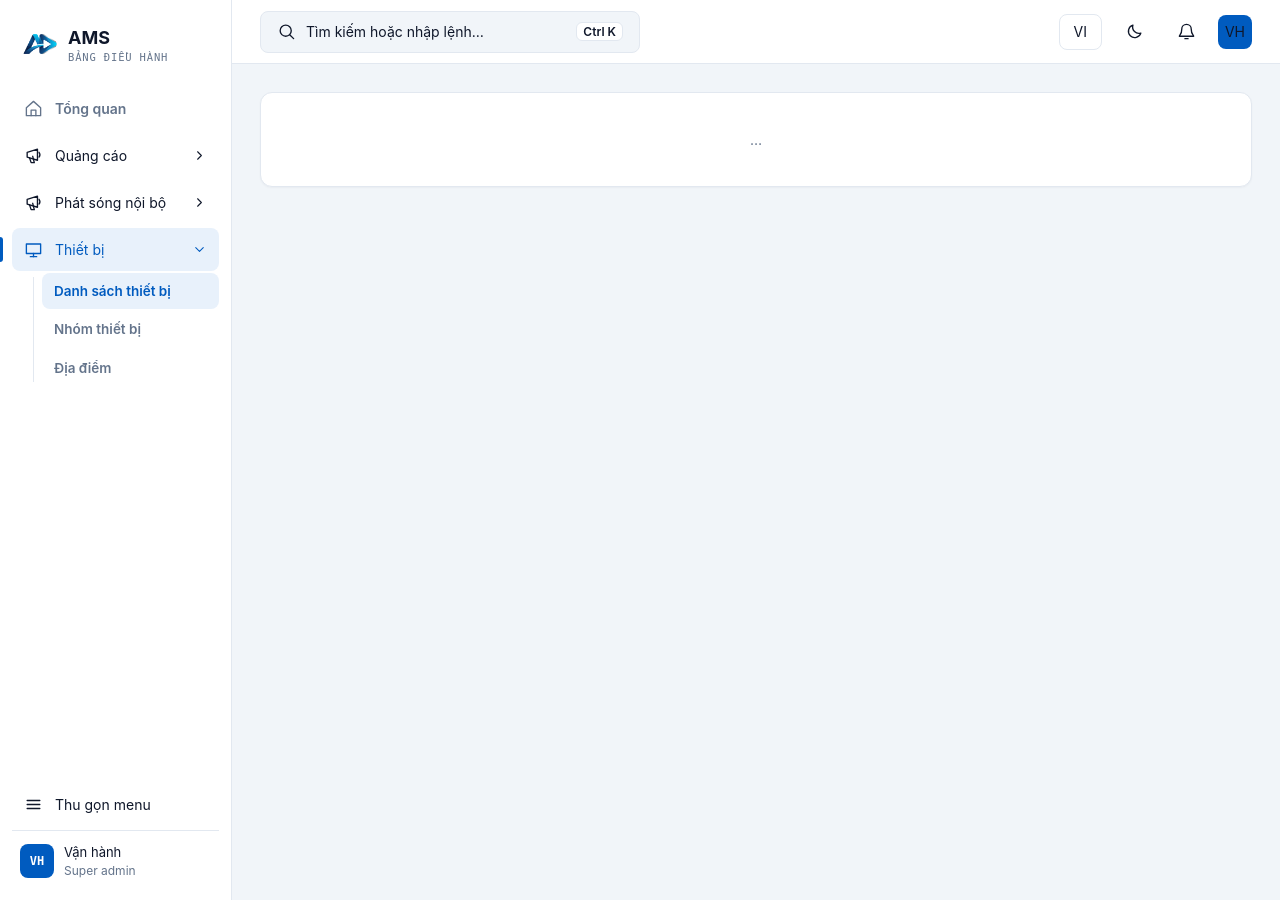
sidebar sub-menu (thay cho hàng tab) › bấm nhóm để mở/đóng, nhớ trạng thái trong localStorage, bấm mục con điều hướng
Click the button "Phát sóng nội bộ": (116, 202) [12, 181, 219, 224]
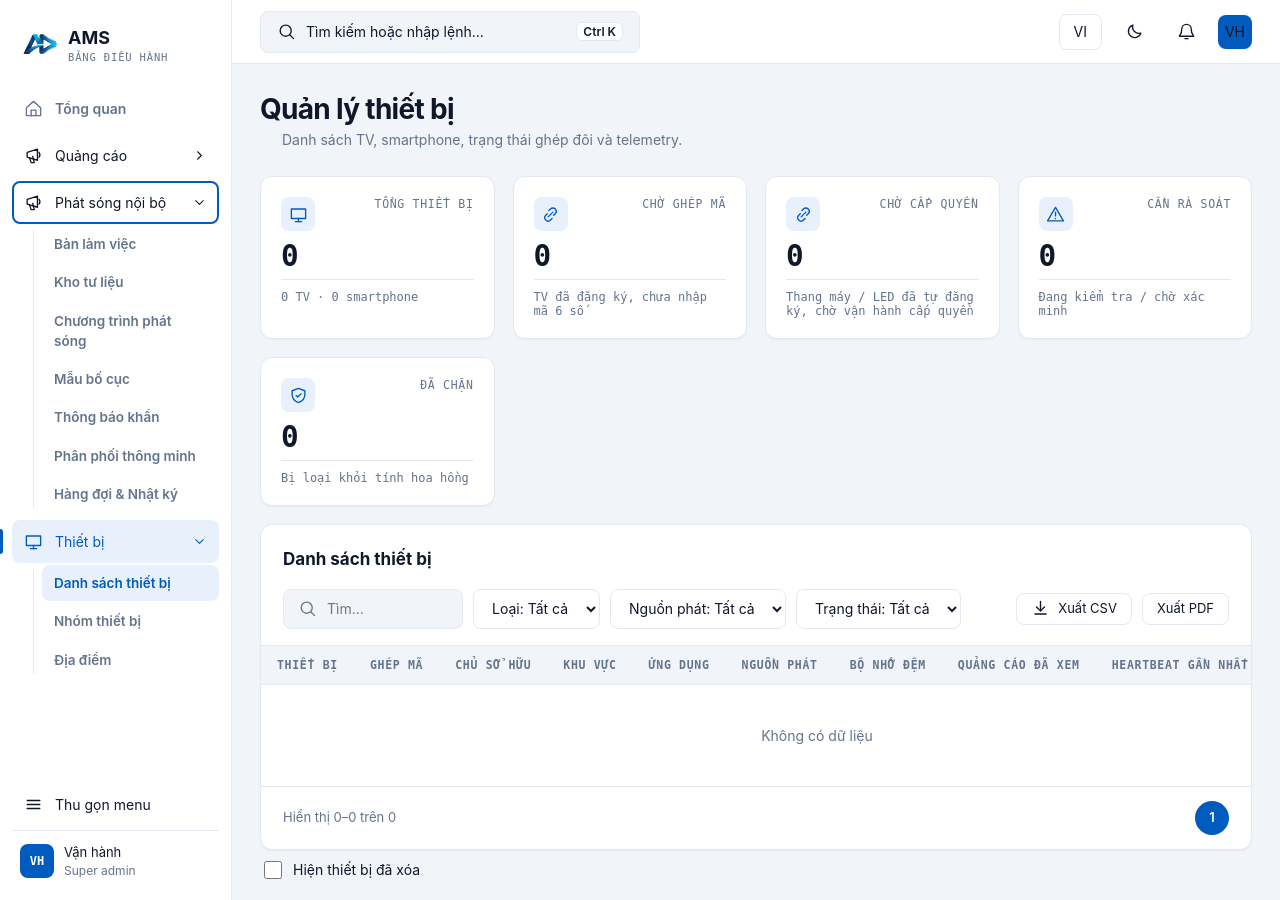
Check: the button "Phát sóng nội bộ" is expanded, box [12, 181, 219, 224]
Check: the link "Bàn làm việc" is shown, box [54, 236, 136, 252]
Check: the link "Kho tư liệu" is shown, box [54, 274, 124, 290]
Click the link "Hàng đợi & Nhật ký": (116, 494) [54, 486, 178, 502]
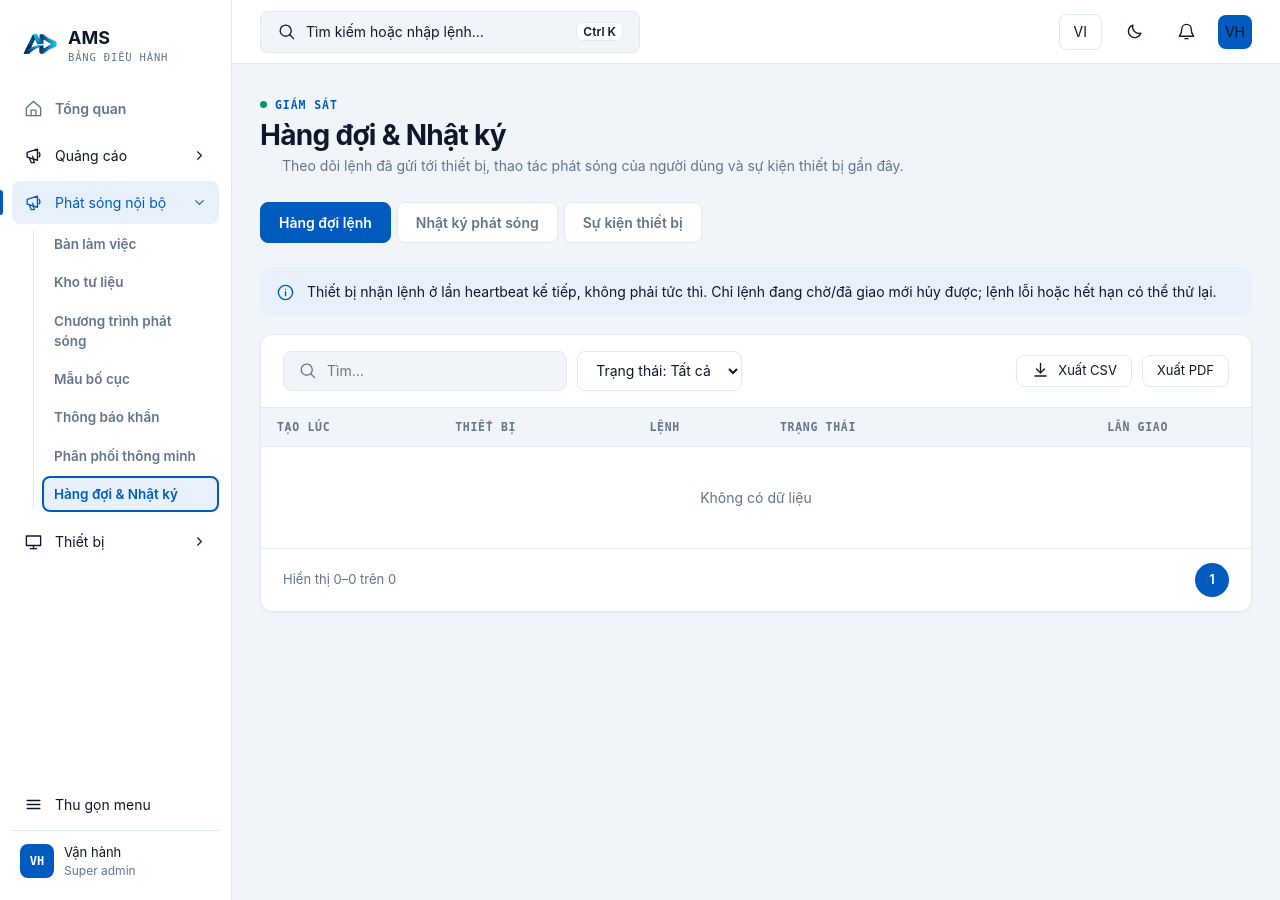
Check: the heading "Hàng đợi & Nhật ký" is shown, box [260, 118, 506, 152]
Note: nhóm đang xem vẫn có thể tự thu gọn rồi mở lại
Click the button "Phát sóng nội bộ": (116, 202) [12, 181, 219, 224]
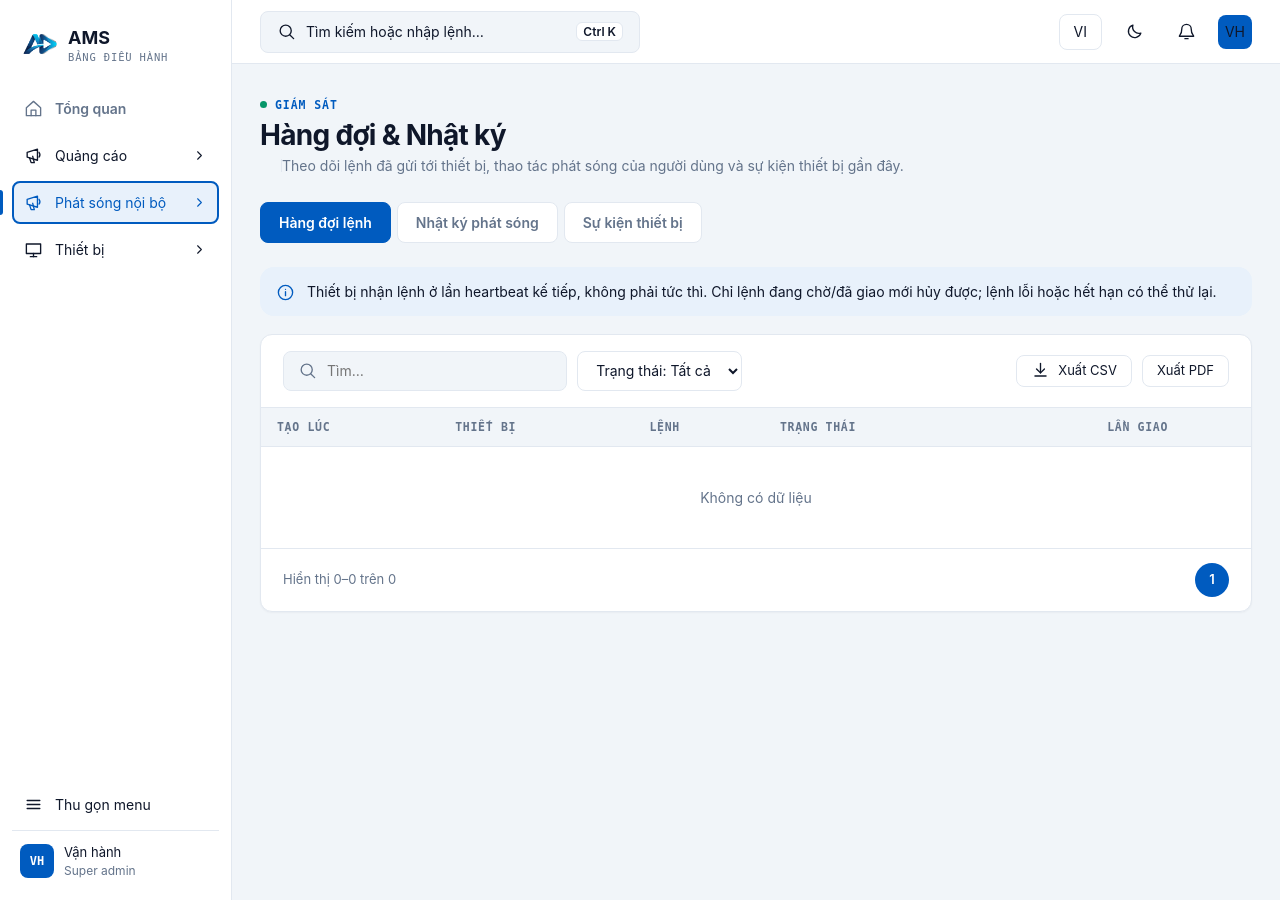
Check: the button "Phát sóng nội bộ" is collapsed
Click the button "Phát sóng nội bộ": (116, 202) [12, 181, 219, 224]
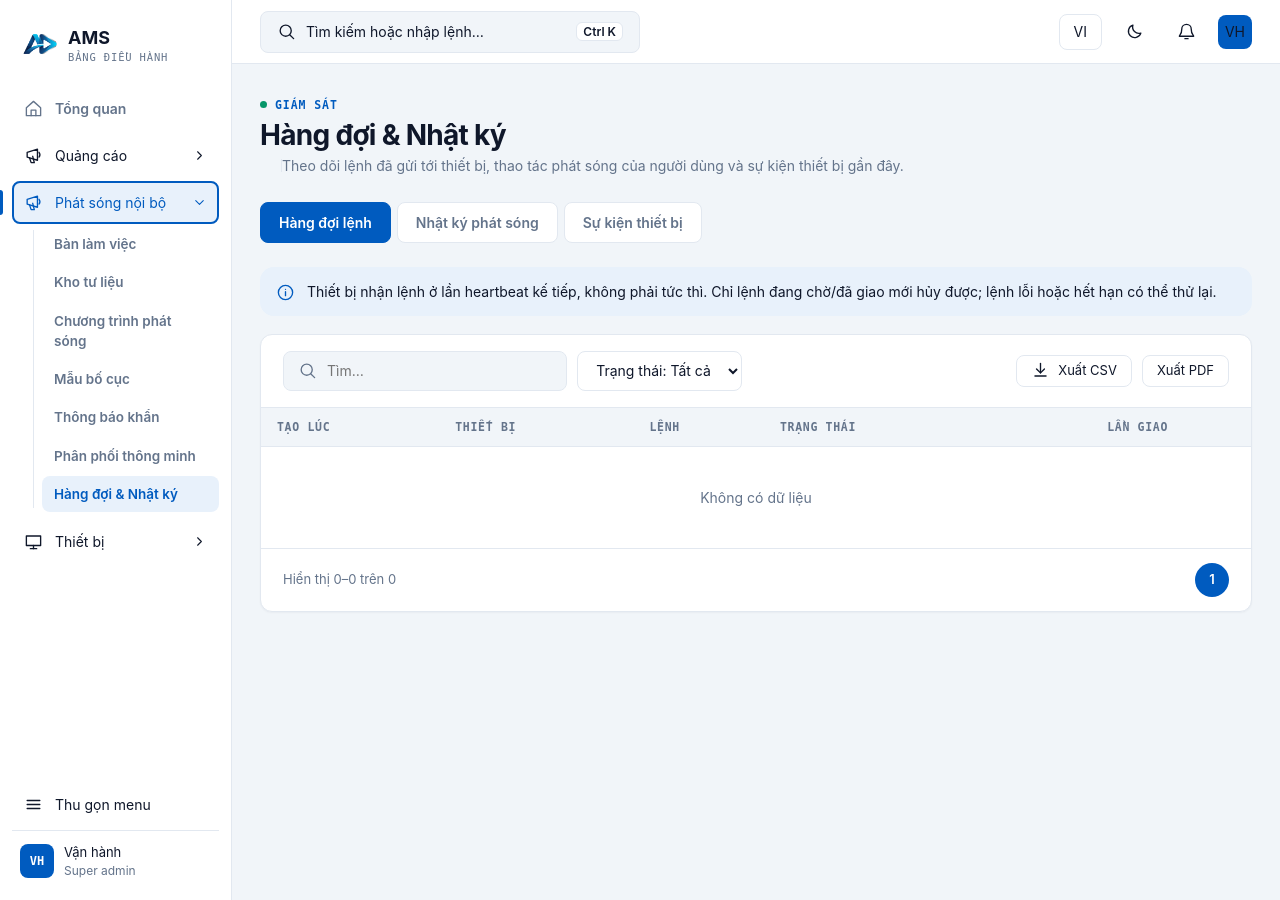
Check: the button "Phát sóng nội bộ" is expanded, box [12, 181, 219, 224]
